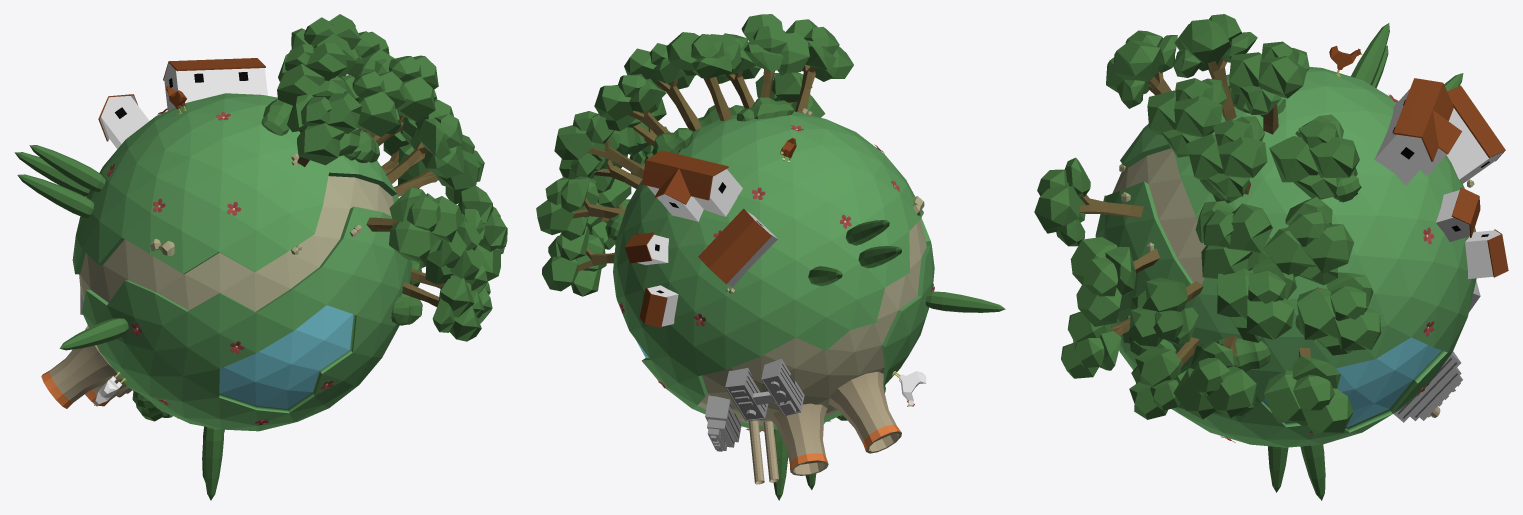
The model's file is terre_bois_fixed.fbx.
The picture shows the model from 3 angles, left to right: view 1: azimuth 30°, elevation 25°; view 2: azimuth 150°, elevation 25°; view 3: azimuth 270°, elevation 25°; orthographic projection. The views are drawn at different scales.
Parts seen in each view (by area): view 1: polySurface16, polySurface264, Cheminée, polySurface184, polySurface228, polySurface79, polySurface14, polySurface186, polySurface188, polySurface240, polySurface140, polySurface181 (+29 smaller); view 2: polySurface16, polySurface264, Cheminée, polySurface184, polySurface278, Cheminée2, polySurface280, polySurface265, polySurface187, polySurface266, polySurface68, polySurface25 (+35 smaller); view 3: polySurface16, polySurface264, polySurface184, polySurface280, polySurface187, polySurface266, polySurface57, polySurface21, polySurface138, polySurface226, polySurface231, polySurface25 (+66 smaller).
Part boxes in pixels (x1,y1,x2,y2): polySurface16: [72, 93, 412, 431]; polySurface264: [163, 58, 267, 110]; Cheminée: [41, 325, 120, 408]; polySurface184: [98, 94, 149, 149]; polySurface228: [297, 123, 344, 165]; polySurface79: [389, 221, 438, 263]; polySurface14: [357, 91, 398, 136]; polySurface186: [29, 145, 105, 191]; polySurface188: [17, 174, 93, 217]; polySurface240: [277, 64, 324, 105]; polySurface140: [397, 76, 435, 122]; polySurface181: [203, 426, 223, 500]; polySurface16: [613, 111, 934, 430]; polySurface264: [642, 150, 742, 216]; Cheminée: [828, 371, 901, 453]; polySurface184: [698, 208, 777, 287]; polySurface278: [725, 359, 804, 421]; Cheminée2: [770, 403, 828, 475]; polySurface280: [705, 395, 742, 451]; polySurface265: [655, 168, 703, 221]; polySurface187: [639, 285, 678, 327]; polySurface266: [625, 232, 668, 265]; polySurface68: [925, 291, 1005, 312]; polySurface25: [554, 125, 593, 159]; polySurface16: [1095, 67, 1476, 447]; polySurface264: [1374, 78, 1453, 185]; polySurface184: [1446, 85, 1505, 183]; polySurface280: [1393, 351, 1462, 422]; polySurface187: [1465, 229, 1508, 278]; polySurface266: [1436, 187, 1480, 241]; polySurface57: [1297, 288, 1337, 339]; polySurface21: [1227, 203, 1272, 252]; polySurface138: [1217, 136, 1267, 177]; polySurface226: [1113, 40, 1161, 81]; polySurface231: [1205, 366, 1256, 417]; polySurface25: [1301, 224, 1353, 273].
Bounding box in the file's own units: 307 × 299 × 247.
